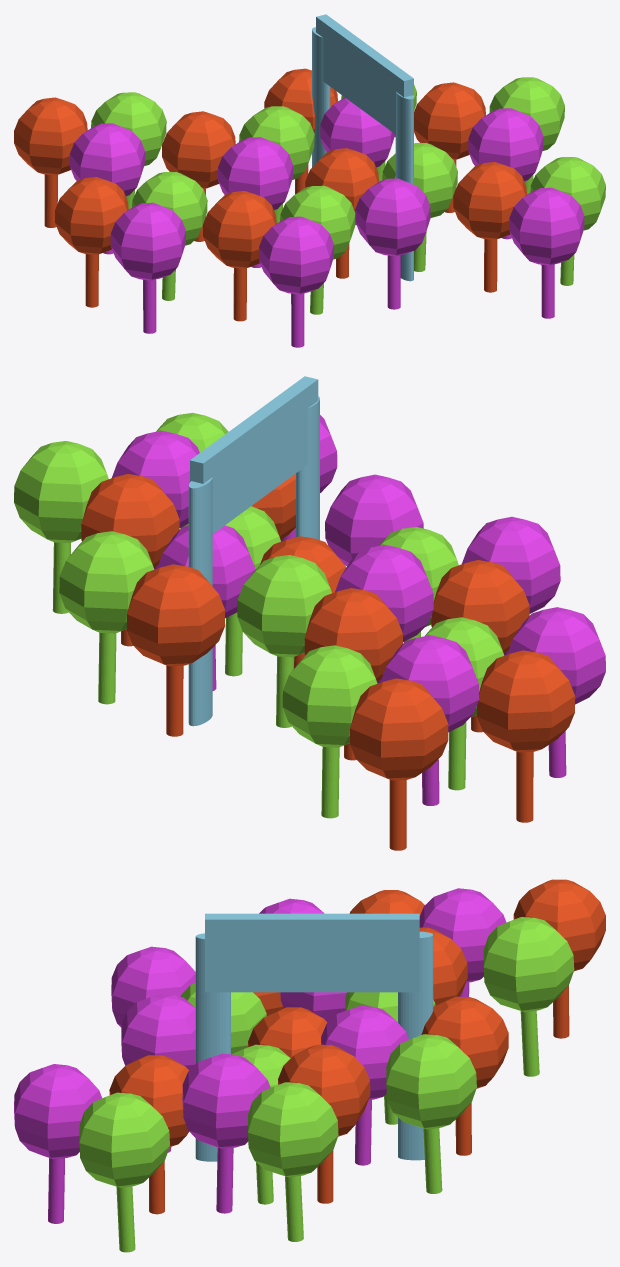
Rendered from forest.glb.
3 renders of one model, top to bottom at view 1: azimuth 30°, elevation 25°; view 2: azimuth 150°, elevation 25°; view 3: azimuth 270°, elevation 25°, orthographic. The views are drawn at different scales.
Visible parts, largest first — view 1: Cube, Sphere.017, Sphere.006, Sphere.012, Sphere.011, Sphere.013, Sphere.004, Sphere.010, Sphere.007, Sphere.001, Sphere.022, Sphere.023 (+22 smaller); view 2: Cube, Sphere.004, Sphere.019, Sphere.007, Sphere.002, Sphere.020, Sphere.003, Sphere.021, Sphere.017, Sphere.001, Sphere.022, Sphere.010 (+26 smaller); view 3: Cube, Sphere.003, Sphere.020, Sphere.014, Sphere.021, Sphere.012, Sphere.023, Sphere.017, Sphere.004, Sphere.022, Sphere.019, Sphere.018 (+25 smaller).
Part boxes in pixels (x1,y1,x2,y2): Cube: (316,14,413,134); Sphere.017: (355,178,430,256); Sphere.006: (110,202,185,280); Sphere.012: (509,187,584,265); Sphere.011: (259,216,333,294); Sphere.013: (453,162,526,239); Sphere.004: (14,97,87,175); Sphere.010: (203,191,276,268); Sphere.007: (55,177,128,254); Sphere.001: (162,111,235,189); Sphere.022: (414,82,485,160); Sphere.023: (468,108,543,181); Cube: (190,376,318,533); Sphere.004: (350,678,448,780); Sphere.019: (127,564,224,666); Sphere.007: (477,650,575,752); Sphere.002: (237,555,331,657); Sphere.020: (59,531,154,633); Sphere.003: (282,645,377,747); Sphere.021: (14,441,108,543); Sphere.017: (325,474,423,566); Sphere.001: (304,588,402,681); Sphere.022: (81,474,179,567); Sphere.010: (431,560,529,653); Cube: (205,913,419,992); Sphere.003: (483,917,574,1011); Sphere.020: (386,1034,476,1129); Sphere.014: (79,1092,169,1187); Sphere.021: (248,1082,338,1177); Sphere.012: (14,1064,101,1159); Sphere.023: (182,1053,270,1148); Sphere.017: (121,993,195,1070); Sphere.004: (513,879,605,971); Sphere.022: (278,1044,370,1136); Sphere.019: (421,996,508,1088); Sphere.018: (321,1005,408,1099).
Size of the model in its own units: 16.08 by 7.5 by 14.78.
